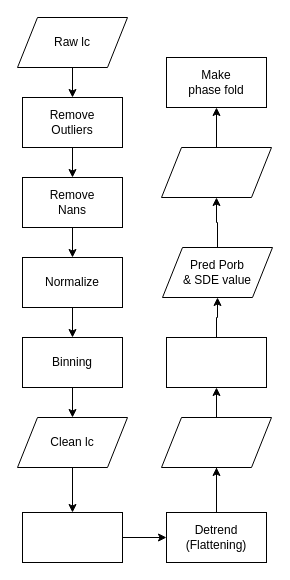
Image size: 290x580. Some labels were removed from this diagram. Each missing label, with the centre of its shape:
Detect Transit by TLS: the point at 216,362
Flat lc: the point at 216,442
Make baseline curve: the point at 72,537
phase-folded lc: the point at 216,172
